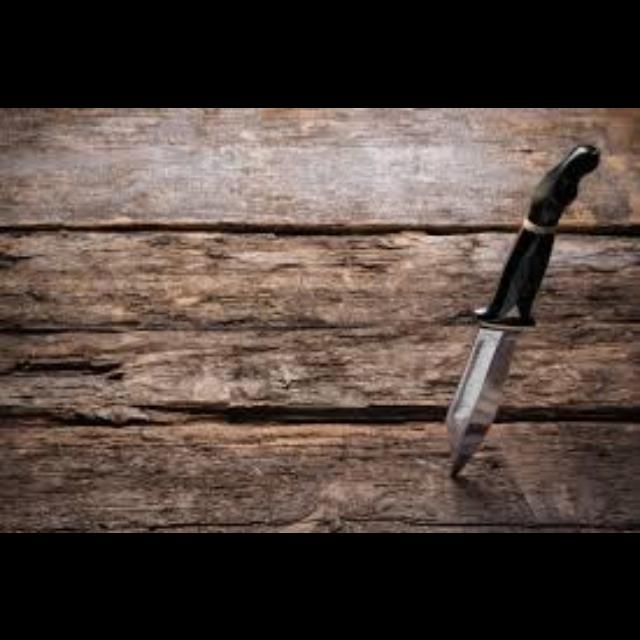Knife: (442, 140, 600, 477)
